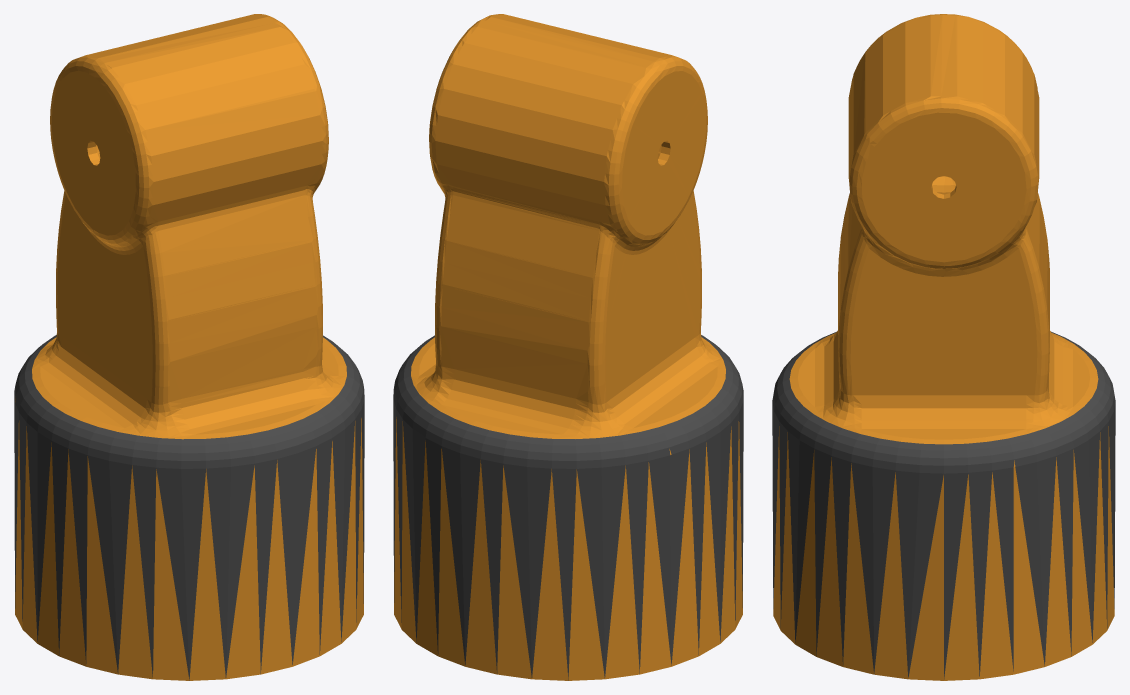
The model's file is arm-base.dae.
3 views of the same model, side by side, from view 1: azimuth 30°, elevation 25°; view 2: azimuth 150°, elevation 25°; view 3: azimuth 270°, elevation 25° (orthographic). The views are drawn at different scales.
Parts seen in each view (by area): view 1: Arm Base; view 2: Arm Base; view 3: Arm Base.
Part boxes in pixels (x1=…): Arm Base: x1=14, y1=14, x2=364, y2=680; Arm Base: x1=393, y1=14, x2=743, y2=680; Arm Base: x1=772, y1=14, x2=1115, y2=680.
Bounding box in the file's own units: 0.135 × 0.135 × 0.24.
